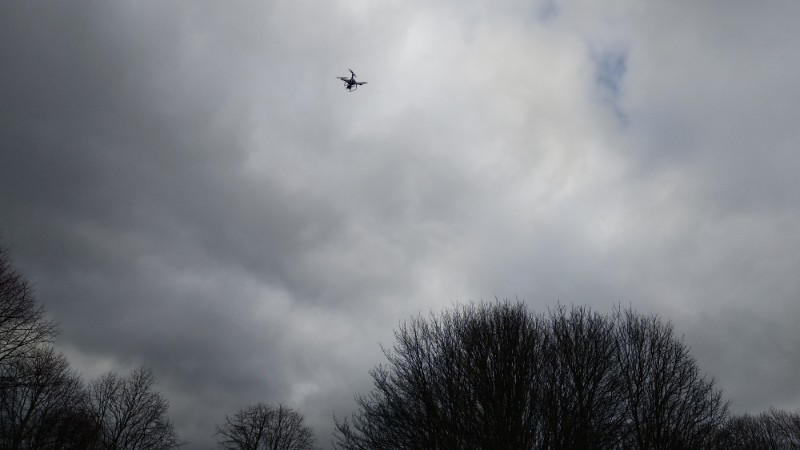drone: (338, 68, 368, 92)
